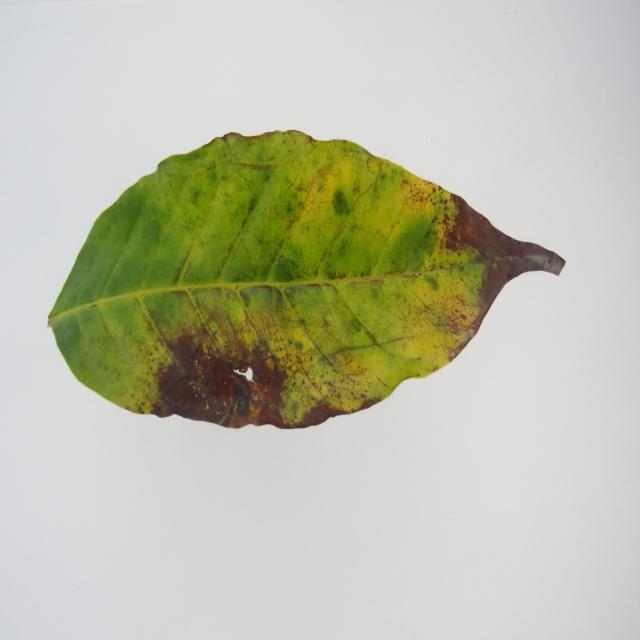DeficienciaNutricional-Potasio: (49, 130, 564, 428)
